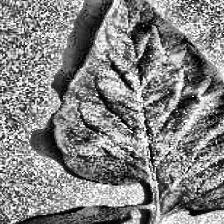Blossom Blight: (133, 39, 187, 87), (118, 126, 185, 160)
